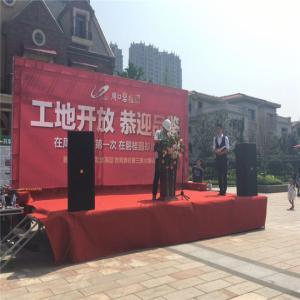none: (216, 125, 224, 137), (195, 159, 203, 168)
white: (163, 120, 173, 134)
